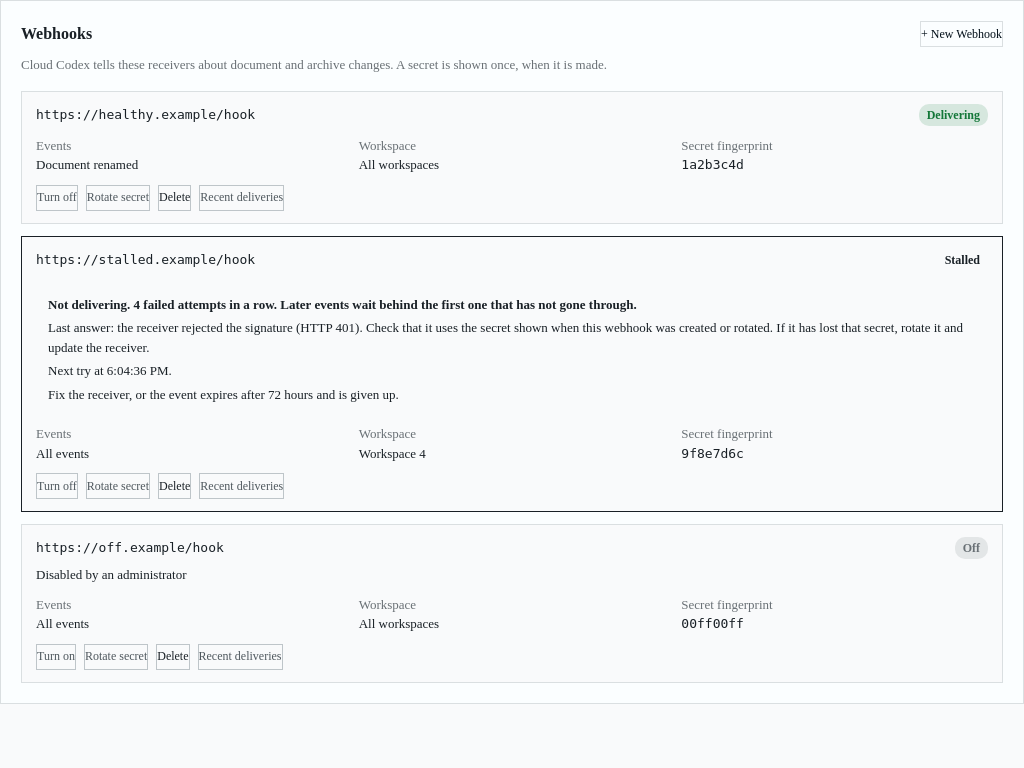
WebhooksPanel: create › shows the API guard refusal as its own sentence
Expected: the text "https://healthy.example/hook" is shown, [36,105,255,124]
Click the button "+ New Webhook" at (962, 34), box [920,21,1003,47]
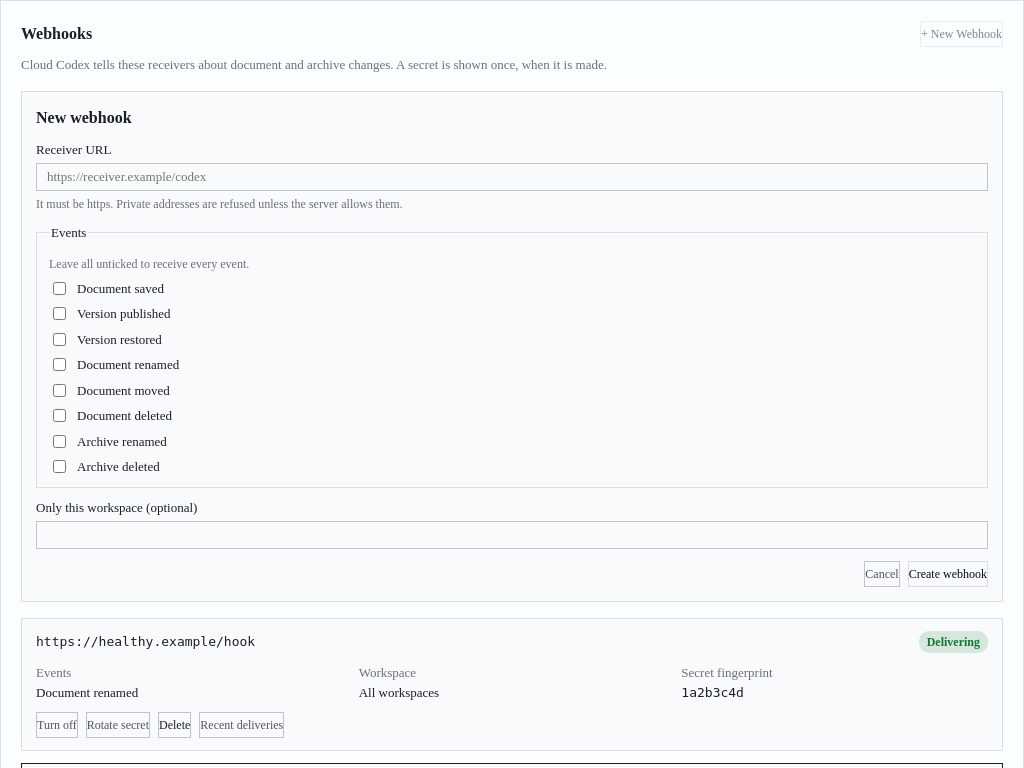
Type "http://plain.example/hook" into the field labelled "Receiver URL" at (512, 177), box [36,163,988,191]
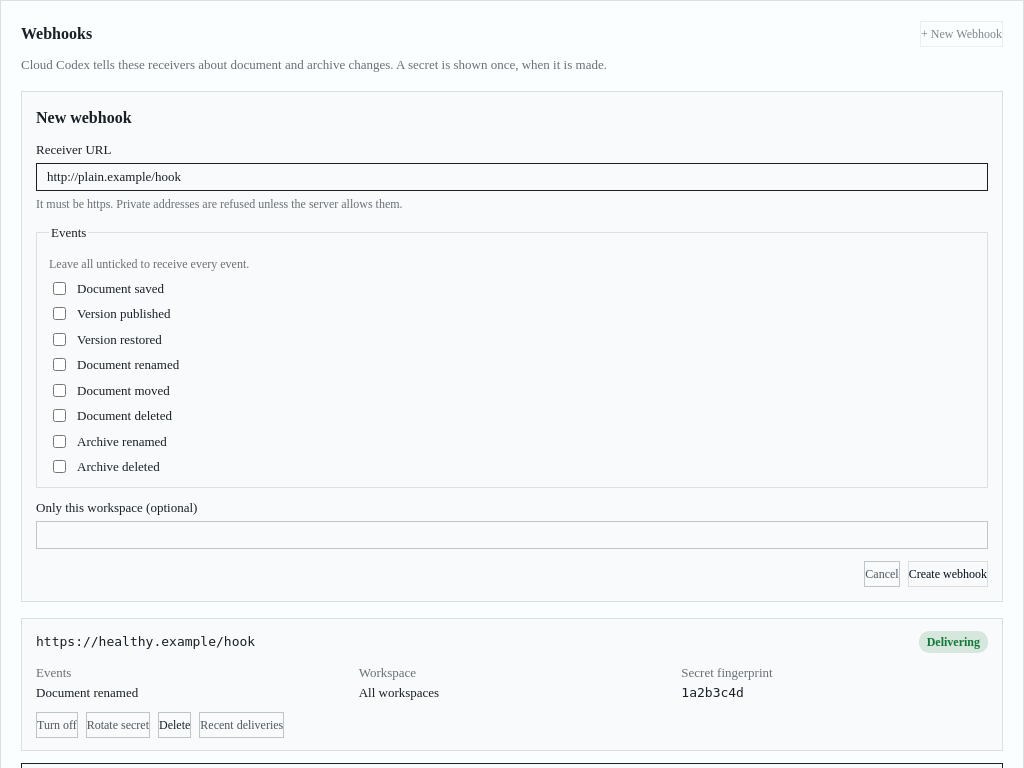
Click the button "Create webhook" at (948, 574), box [908,561,988,587]
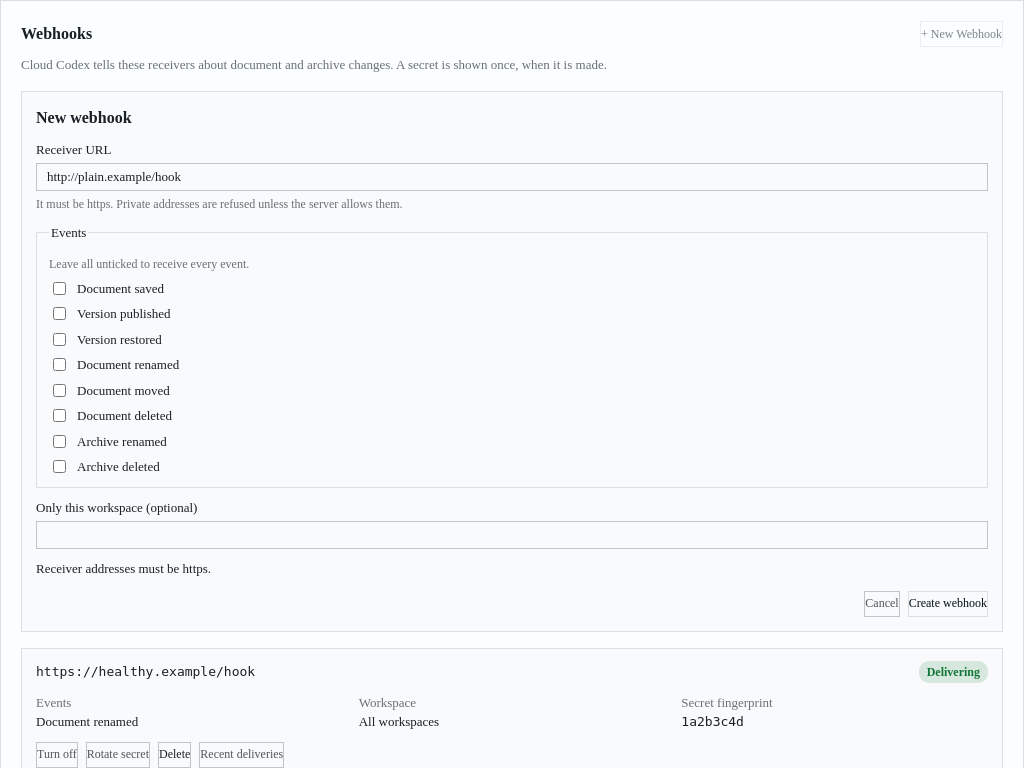
Now the text "Receiver addresses must be https." is shown, box [36,561,211,576]
